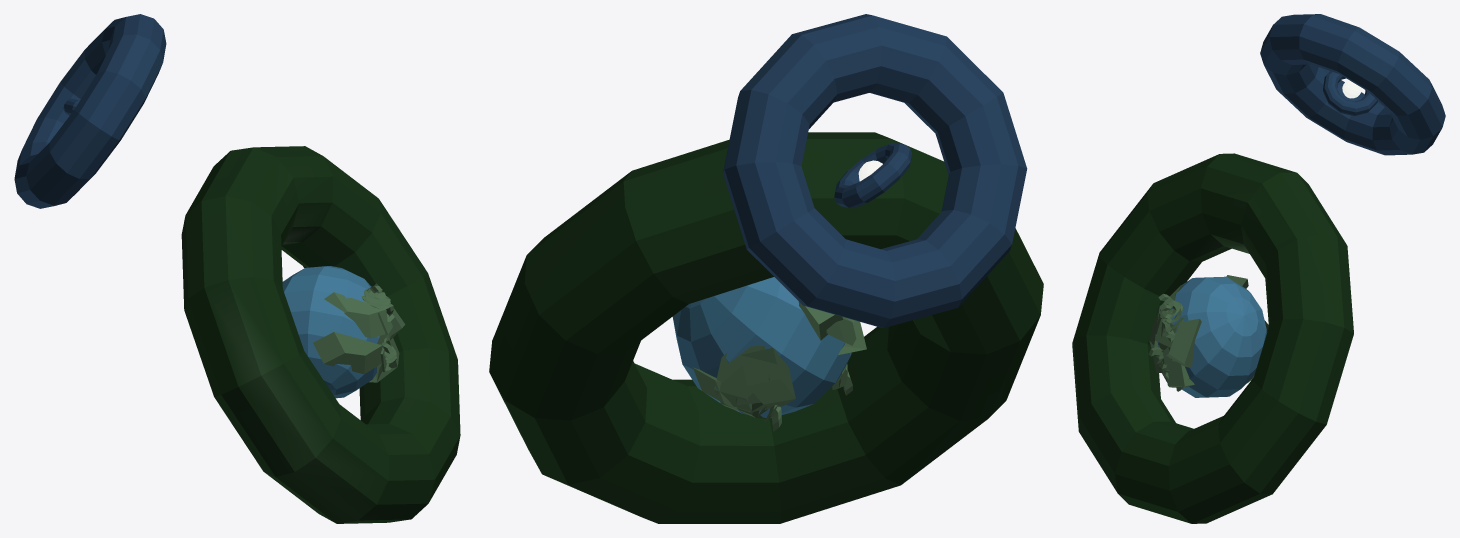
File: planet.glb
The picture shows the model from 3 angles, left to right: view 1: azimuth 30°, elevation 25°; view 2: azimuth 150°, elevation 25°; view 3: azimuth 270°, elevation 25°; orthographic projection. The views are drawn at different scales.
Visible parts, largest first — view 1: Water.002, group1396455888.002, group668468700, group1116711474, group940707738, group2104907756; view 2: Water.002, group1396455888.002, group668468700, group1137263539, group55601324.002, group1397593808.001; view 3: Water.002, group1396455888.002, group668468700, group55601324.002, group1397593808, group2104907756, group1224090816.
Part boxes in pixels (box(x1,y1,x2,y2)): Water.002: box(181, 146, 460, 523); group1396455888.002: box(14, 14, 166, 208); group668468700: box(282, 266, 379, 398); group1116711474: box(313, 332, 382, 374); group940707738: box(324, 292, 387, 338); group2104907756: box(361, 285, 394, 321); Water.002: box(489, 132, 1043, 523); group1396455888.002: box(723, 14, 1027, 327); group668468700: box(672, 277, 851, 418); group1137263539: box(714, 345, 795, 412); group55601324.002: box(834, 142, 912, 208); group1397593808.001: box(798, 301, 866, 355); Water.002: box(1072, 153, 1353, 523); group1396455888.002: box(1260, 14, 1445, 155); group668468700: box(1157, 276, 1267, 397); group55601324.002: box(1323, 71, 1377, 115); group1397593808: box(1166, 319, 1201, 368); group2104907756: box(1158, 294, 1185, 342); group1224090816: box(1163, 347, 1194, 387).
Size of the model in its own units: 2.4 by 2.76 by 2.23.
